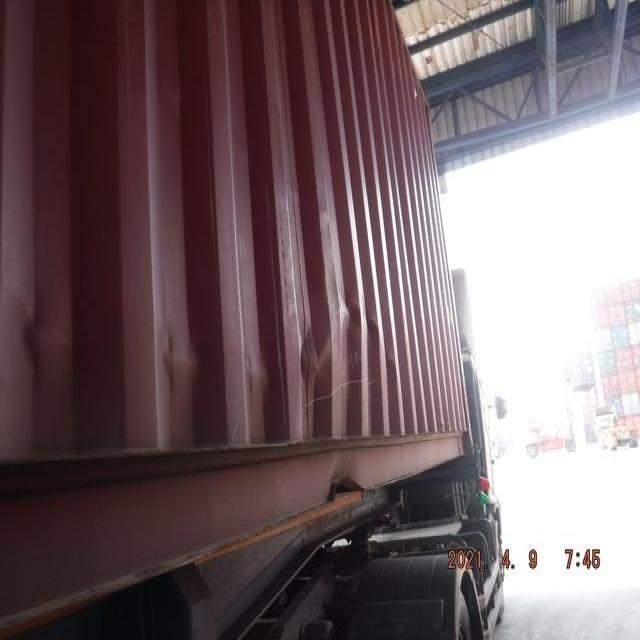dent: (290, 264, 396, 402), (150, 333, 200, 390), (232, 352, 274, 397)
